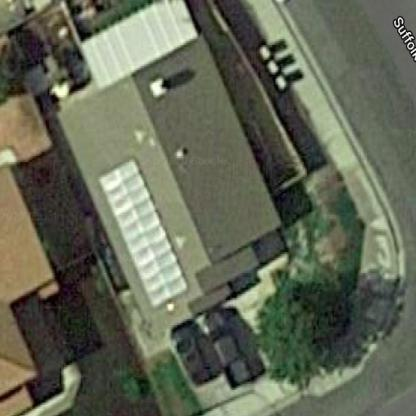car: (201, 309, 254, 390), (164, 314, 214, 385)
solar_panel: (92, 148, 191, 306)
